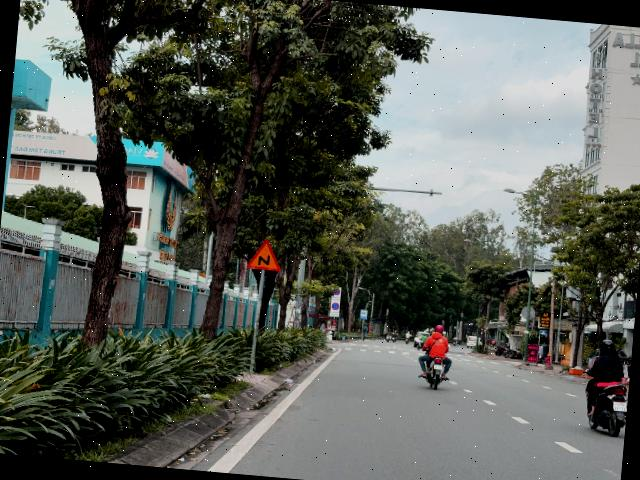nhieu-cho-ngoat-nguy-hiem-lien-tiep: (246, 238, 284, 271)
